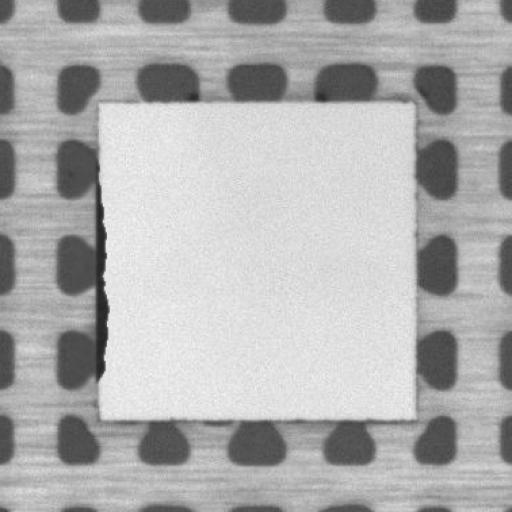DIE_BROKEN: (90, 153, 111, 390)
